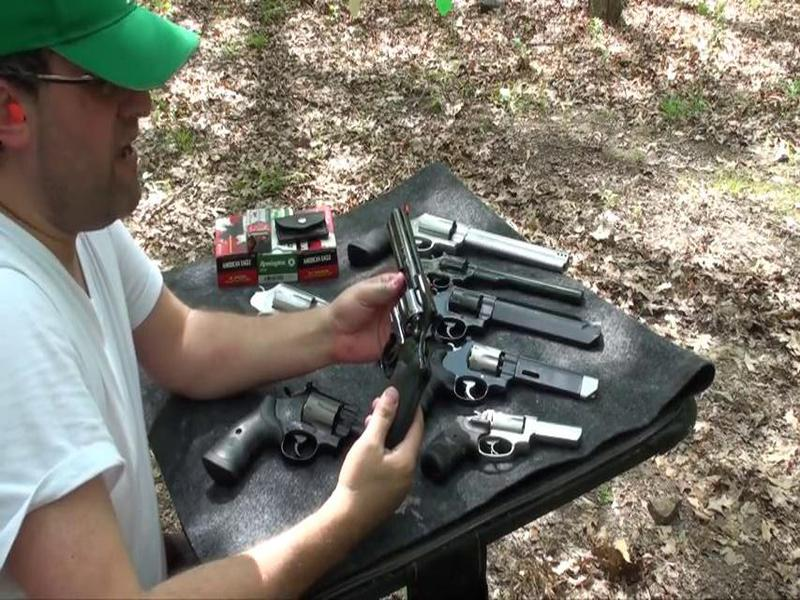Revolver: (357, 206, 461, 458)
